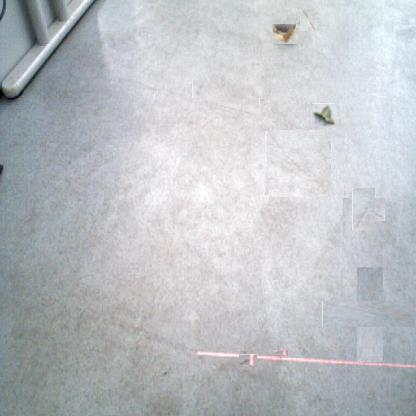dirty: (311, 103, 335, 126), (272, 24, 298, 44), (298, 11, 317, 29)
mark: (266, 130, 332, 196), (340, 284, 400, 345), (348, 193, 380, 226), (398, 21, 416, 40), (191, 82, 207, 97), (241, 353, 256, 367), (273, 347, 285, 358), (160, 369, 170, 377), (259, 99, 266, 107)
